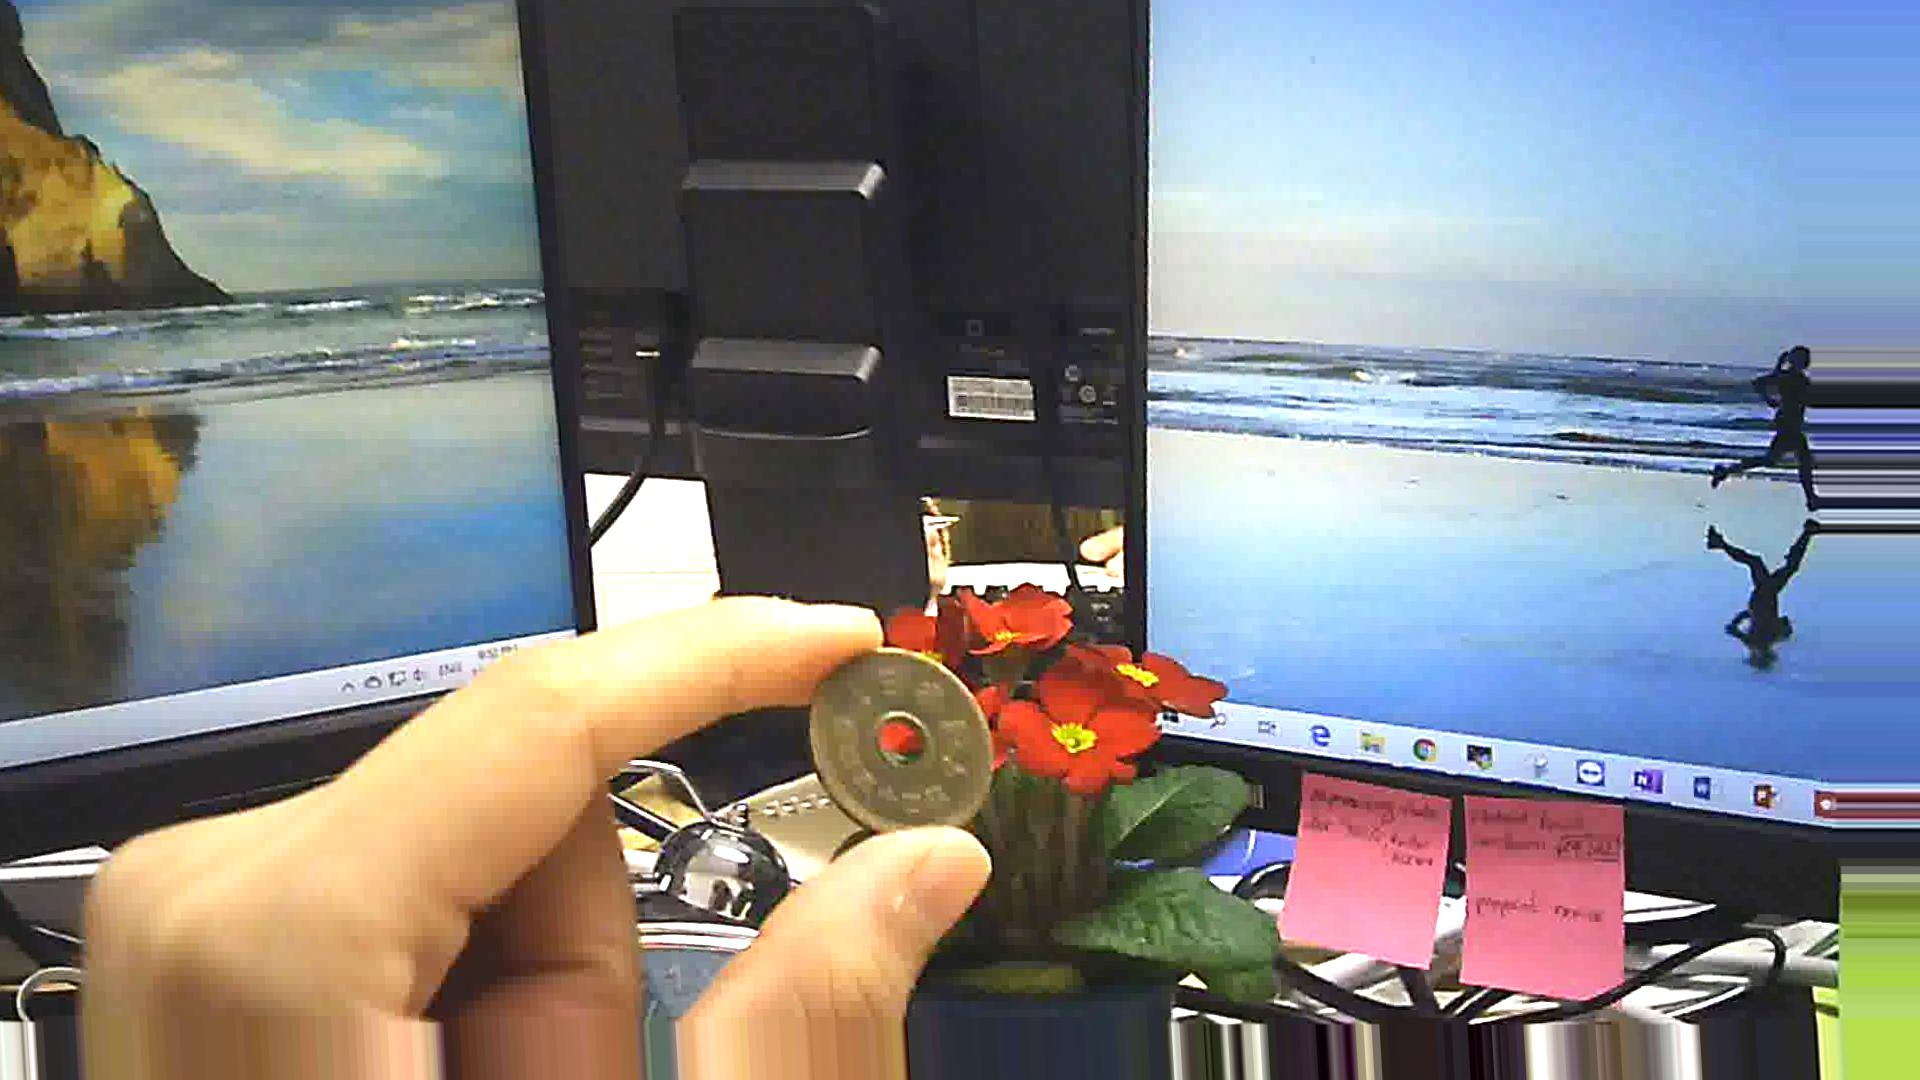5 Yen: (807, 637, 988, 855)
